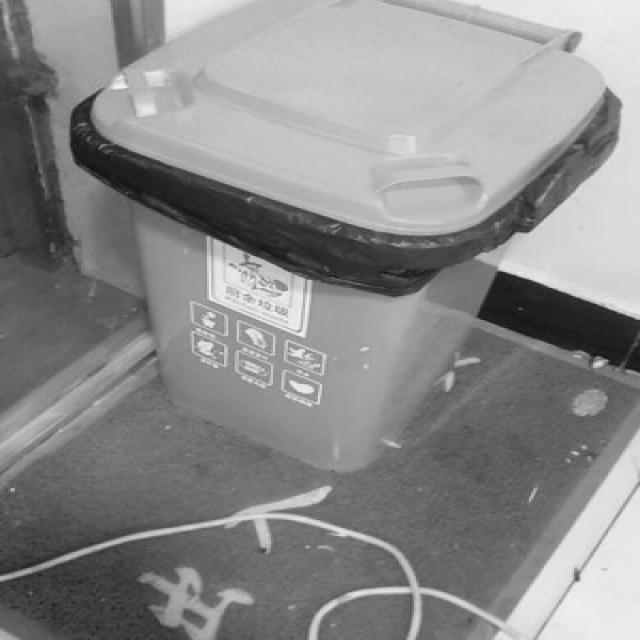ash bin: (66, 0, 638, 474)
